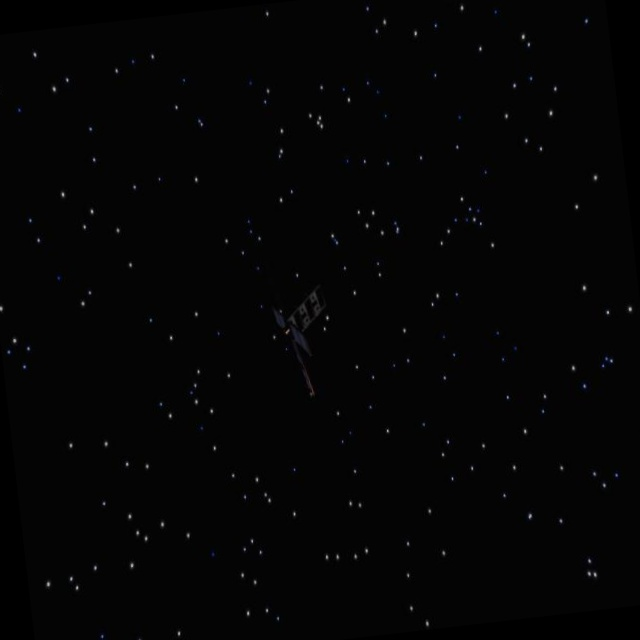satellite: (243, 265, 332, 399)
